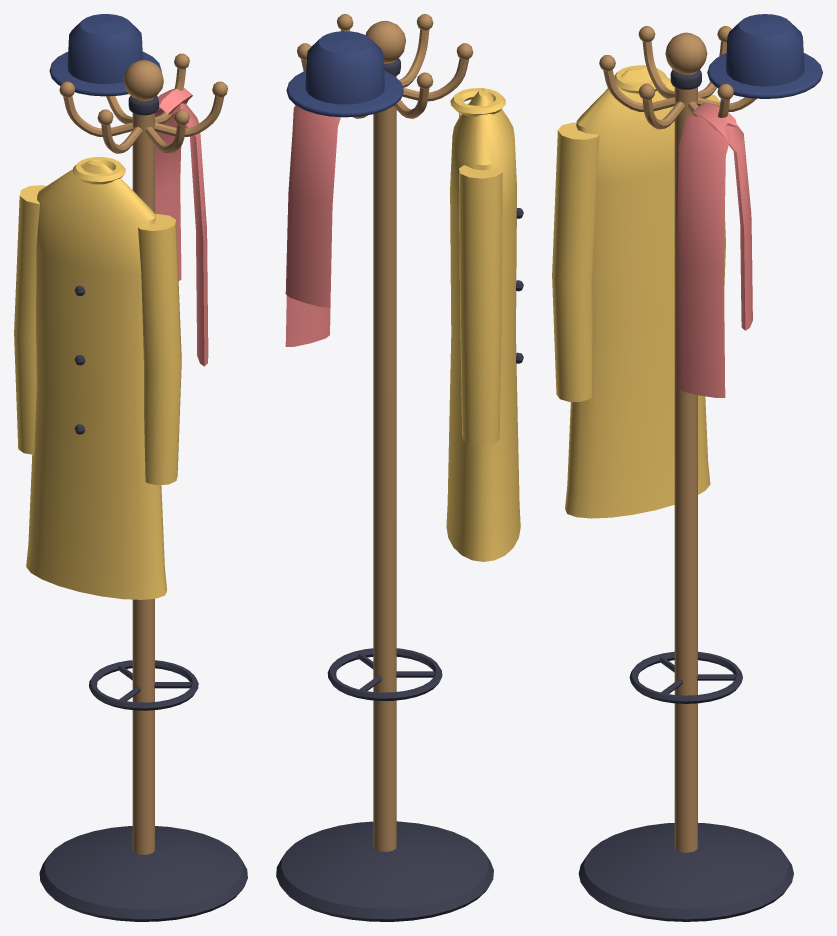
The model's file is coat_rack.glb.
The picture shows the model from 3 angles, left to right: view 1: azimuth 30°, elevation 25°; view 2: azimuth 150°, elevation 25°; view 3: azimuth 270°, elevation 25°; orthographic projection. The views are drawn at different scales.
Parts seen in each view (by area): view 1: coat, charcoal, oak_dark, scarf, hat; view 2: coat, oak_dark, charcoal, scarf, hat; view 3: coat, charcoal, oak_dark, scarf, hat.
Boxes of the visible parts, x1,y1,x2,y2 form: coat: (14,157,181,599); charcoal: (39,96,247,921); oak_dark: (59,53,227,854); scarf: (155,88,208,366); hat: (49,14,161,96); coat: (446,88,520,561); oak_dark: (297,14,473,851); charcoal: (276,58,523,921); scarf: (285,105,340,346); hat: (286,31,403,117); coat: (552,65,725,518); charcoal: (578,69,793,921); oak_dark: (599,26,756,852); scarf: (676,102,752,397); hat: (707,14,822,98).
Size of the model in its own units: 0.4714 by 1.8 by 0.5156.
